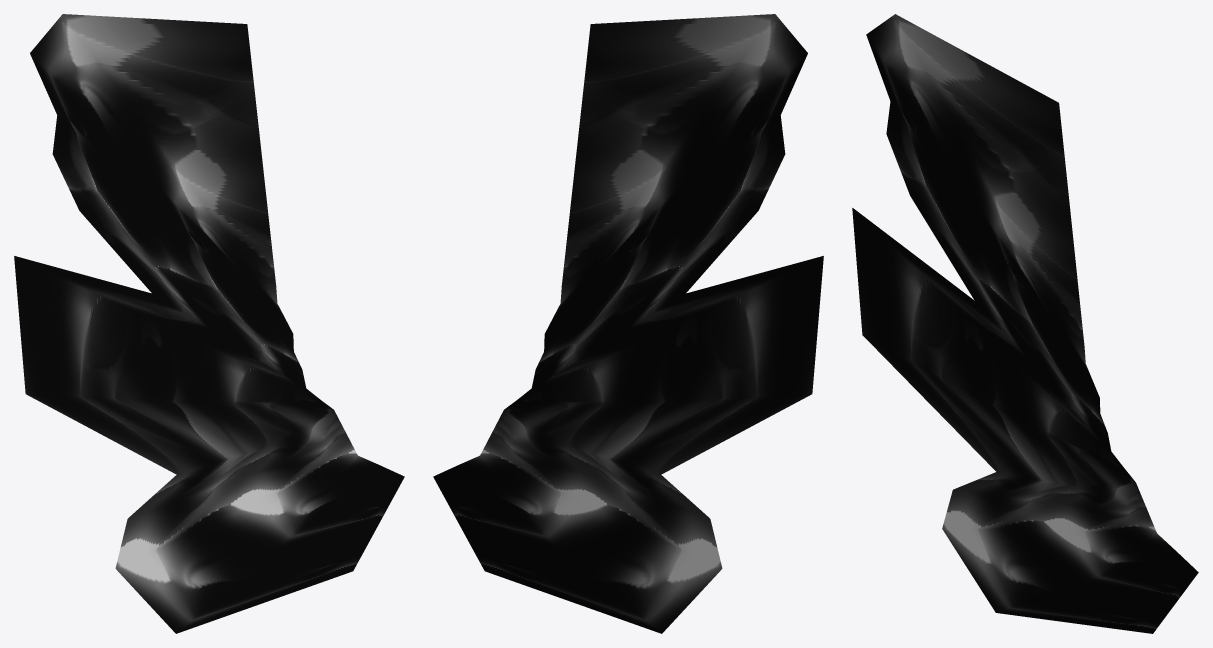
Rendered from Tmz_chi1.FBX.
3 views of the same model, side by side, from view 1: azimuth 30°, elevation 25°; view 2: azimuth 150°, elevation 25°; view 3: azimuth 330°, elevation 25° (orthographic). The views are drawn at different scales.
Visible parts, largest first — view 1: Plane002; view 2: Plane002; view 3: Plane002.
Boxes of the visible parts, bbox=[...] form: Plane002: bbox=[14, 14, 404, 633]; Plane002: bbox=[433, 14, 823, 633]; Plane002: bbox=[852, 14, 1198, 633].
Size of the model in its own units: 55.94 by 88.58 by 9.31e-06.
